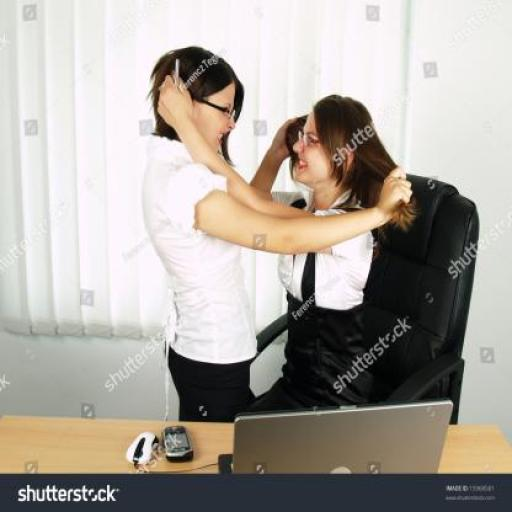Fighting: (143, 48, 474, 425)
